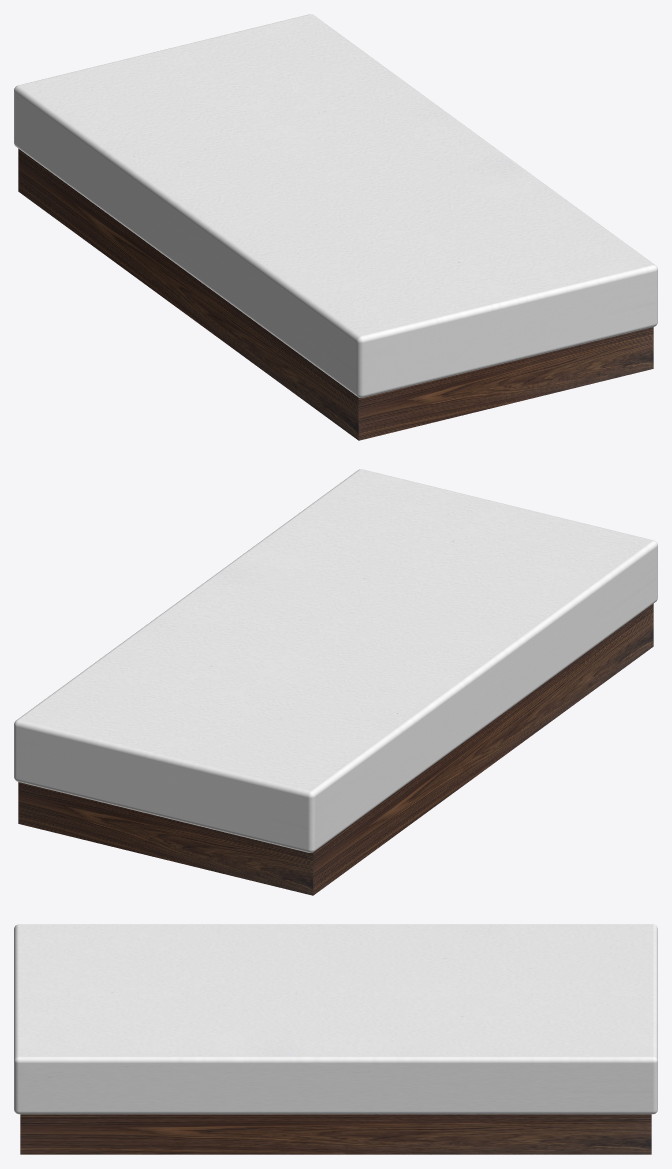
The model's file is bed.glb.
3 views of the same model, one above another, from view 1: azimuth 30°, elevation 25°; view 2: azimuth 150°, elevation 25°; view 3: azimuth 270°, elevation 25° (orthographic). The views are drawn at different scales.
Visible parts, largest first — view 1: Cube 2, Cube; view 2: Cube 2, Cube; view 3: Cube 2, Cube.
Boxes of the visible parts, x1,y1,x2,y2 form: Cube 2: [14, 14, 657, 397]; Cube: [18, 148, 653, 440]; Cube 2: [14, 469, 657, 852]; Cube: [18, 603, 653, 895]; Cube 2: [14, 924, 657, 1114]; Cube: [20, 1114, 651, 1154].
Size of the model in its own units: 5.1 by 1.7 by 10.2.
Materials: 2 (2 with a texture image).
